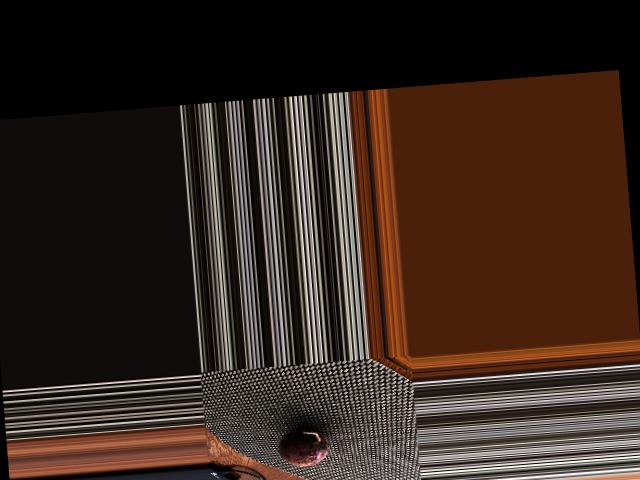beet: (276, 426, 328, 468)
